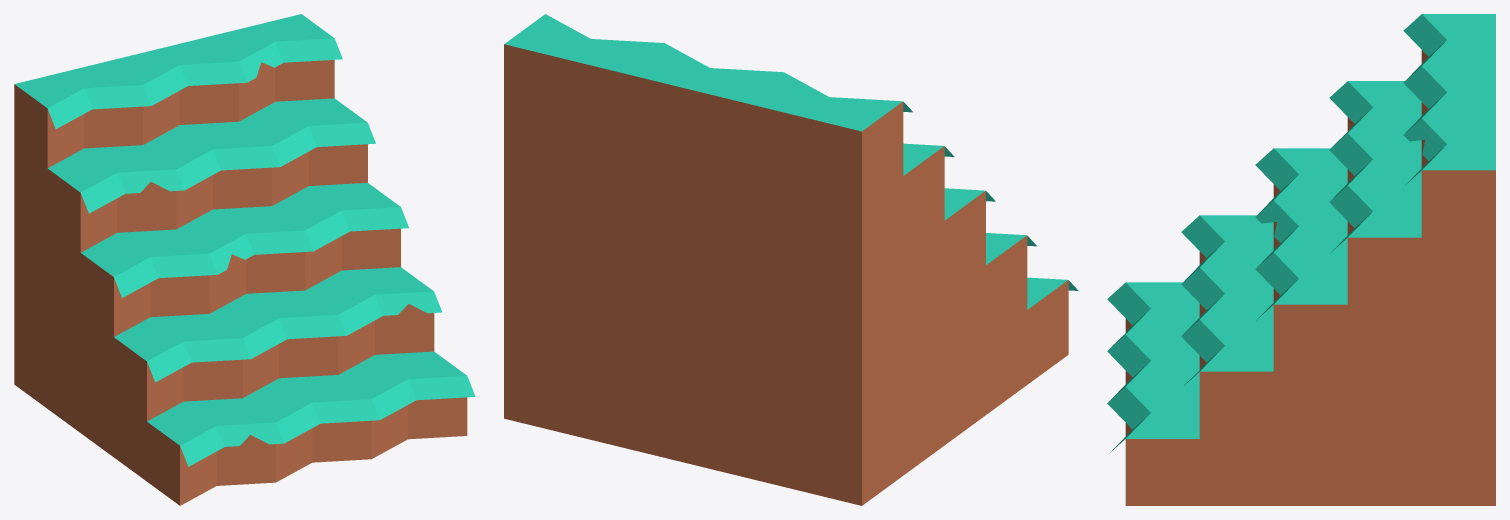
Rendered from cliff_steps_rock.dae.
3 renders of one model, left to right at view 1: azimuth 30°, elevation 25°; view 2: azimuth 150°, elevation 25°; view 3: azimuth 270°, elevation 25°, orthographic. The views are drawn at different scales.
Parts seen in each view (by area): view 1: cliff_steps_rock; view 2: cliff_steps_rock; view 3: cliff_steps_rock.
Boxes of the visible parts, left/top/right/bottom form: cliff_steps_rock: left=14, top=14, right=475, bottom=505; cliff_steps_rock: left=504, top=14, right=1078, bottom=505; cliff_steps_rock: left=1107, top=14, right=1495, bottom=505.
Bounding box in the file's own units: 1 × 1 × 1.05.
